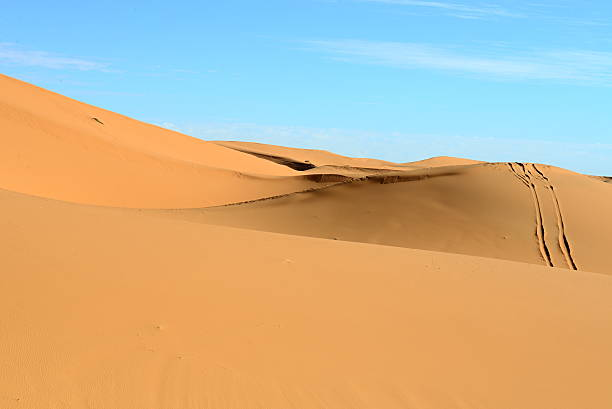vehicle_track: (507, 162, 577, 269), (530, 164, 576, 269), (508, 162, 553, 266)
